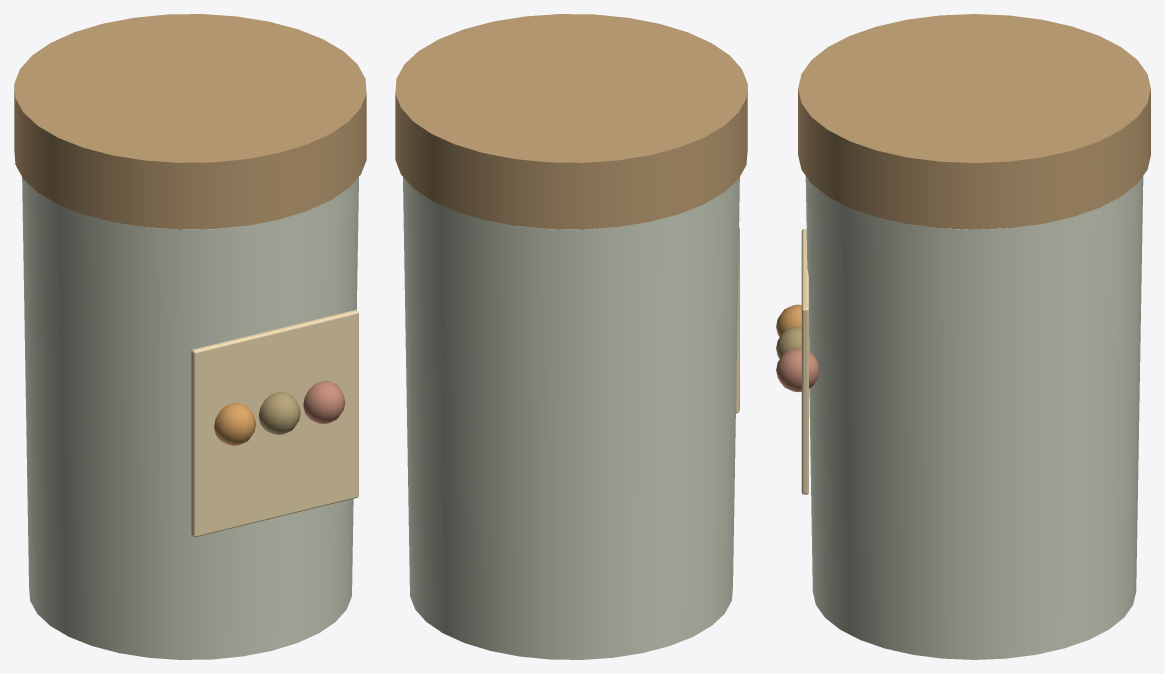
File: urban-pencil-jar-v1.glb
3 renders of one model, left to right at view 1: azimuth 30°, elevation 25°; view 2: azimuth 150°, elevation 25°; view 3: azimuth 270°, elevation 25°, orthographic.
Visible parts, largest first — view 1: Frosted-jar, Jar-lid, Jar-paper-label, Small-stationery-jar; view 2: Frosted-jar, Jar-lid, Jar-paper-label; view 3: Frosted-jar, Jar-lid, Small-stationery-jar, Jar-paper-label.
Part boxes in pixels (x1,y1,x2,y2): Frosted-jar: (22,177,358,659); Jar-lid: (14,14,366,229); Jar-paper-label: (191,310,358,537); Small-stationery-jar: (214,380,345,445); Frosted-jar: (403,177,739,659); Jar-lid: (395,14,747,229); Jar-paper-label: (736,226,739,413); Frosted-jar: (805,176,1143,659); Jar-lid: (798,14,1150,229); Small-stationery-jar: (776,304,818,392); Jar-paper-label: (801,229,808,494).
Size of the model in its own units: 0.048 by 0.0755 by 0.051.
